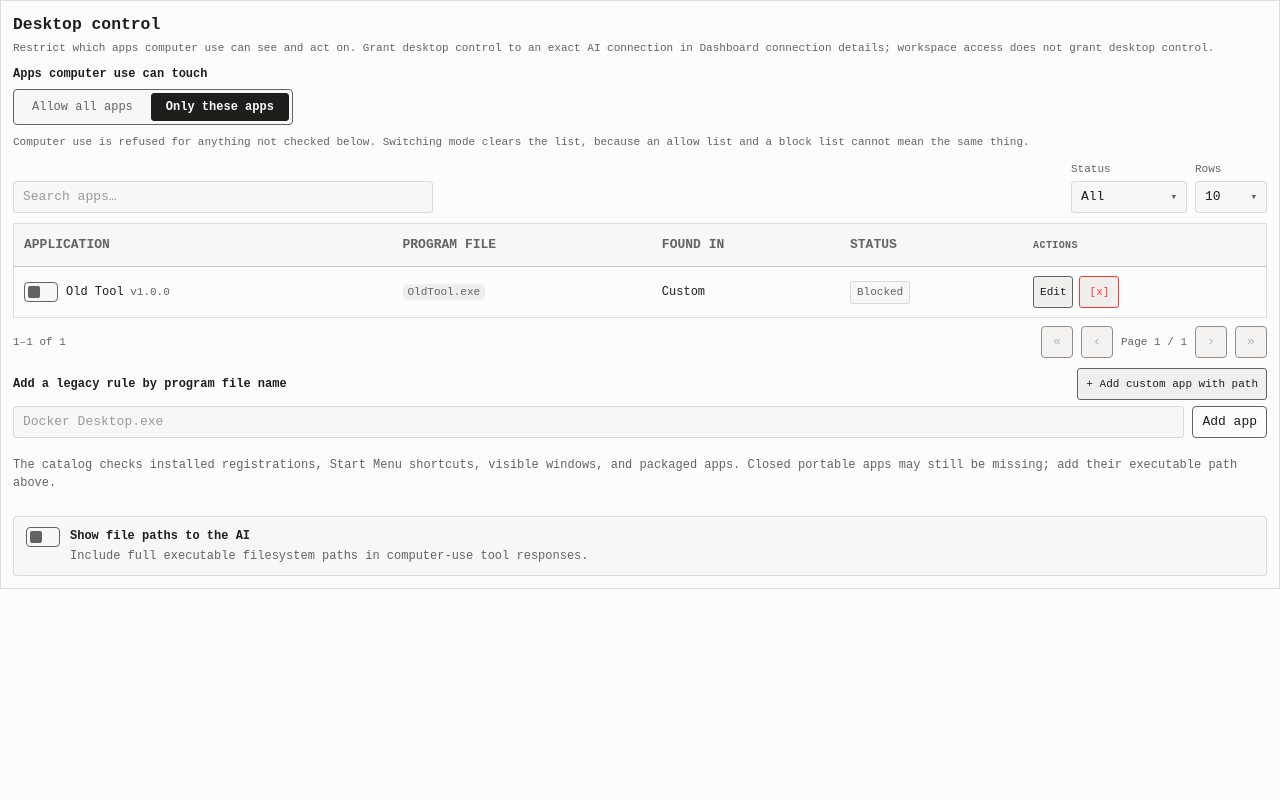
Test case: DesktopControlSettings › allows editing a custom application using the modal
expect the column heading "Actions" is shown: met, box [1023,224,1266,267]
Click the button with aria-label "edit old tool" at (1053, 292), box [1033,276,1074,308]
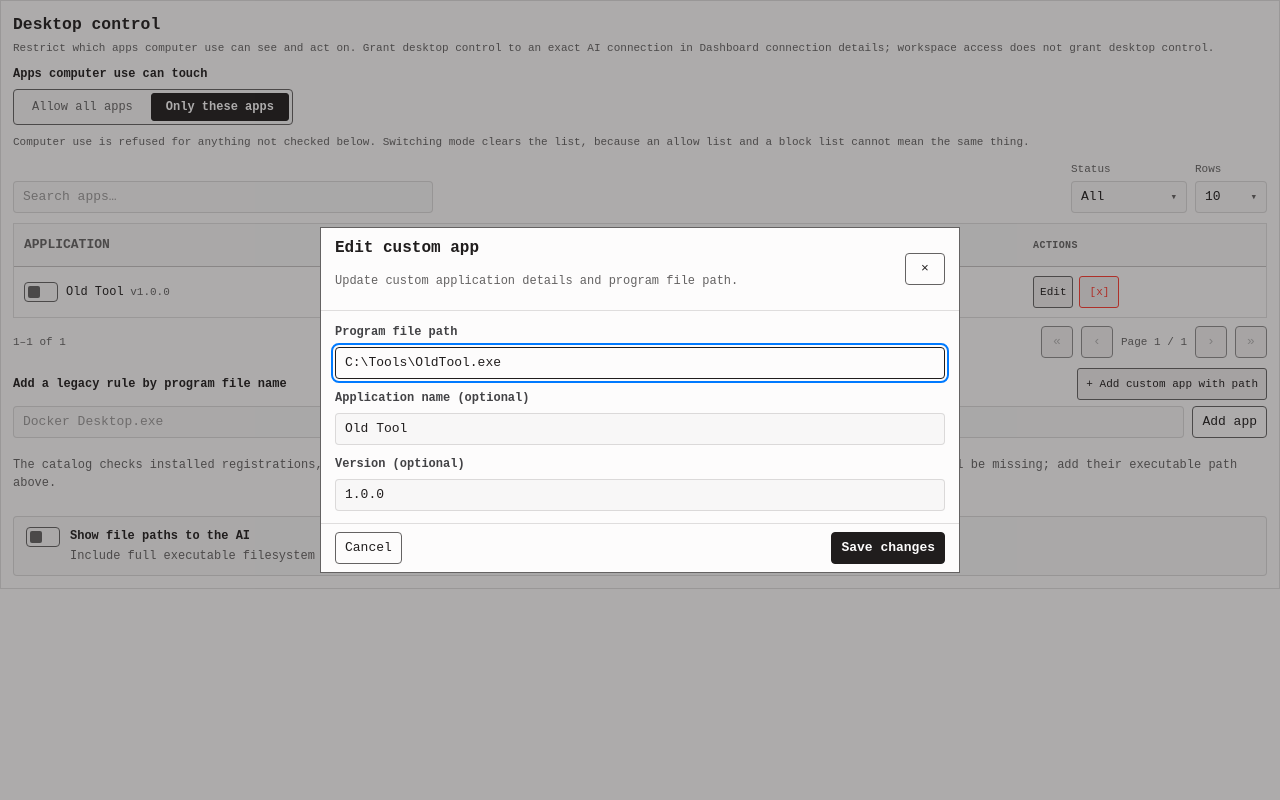
expect the heading "Edit custom app" is shown: met, box [335,239,479,257]
expect the field labelled "Program file path" holds "C:\\Tools\\OldTool.exe": met
expect the field labelled "Application name (optional)" holds "Old Tool": met, box [335,413,945,445]
Replace the text in the field labelled "Program file path" with "C:\\Tools\\NewTool.exe" at (640, 363), box [335,347,945,379]
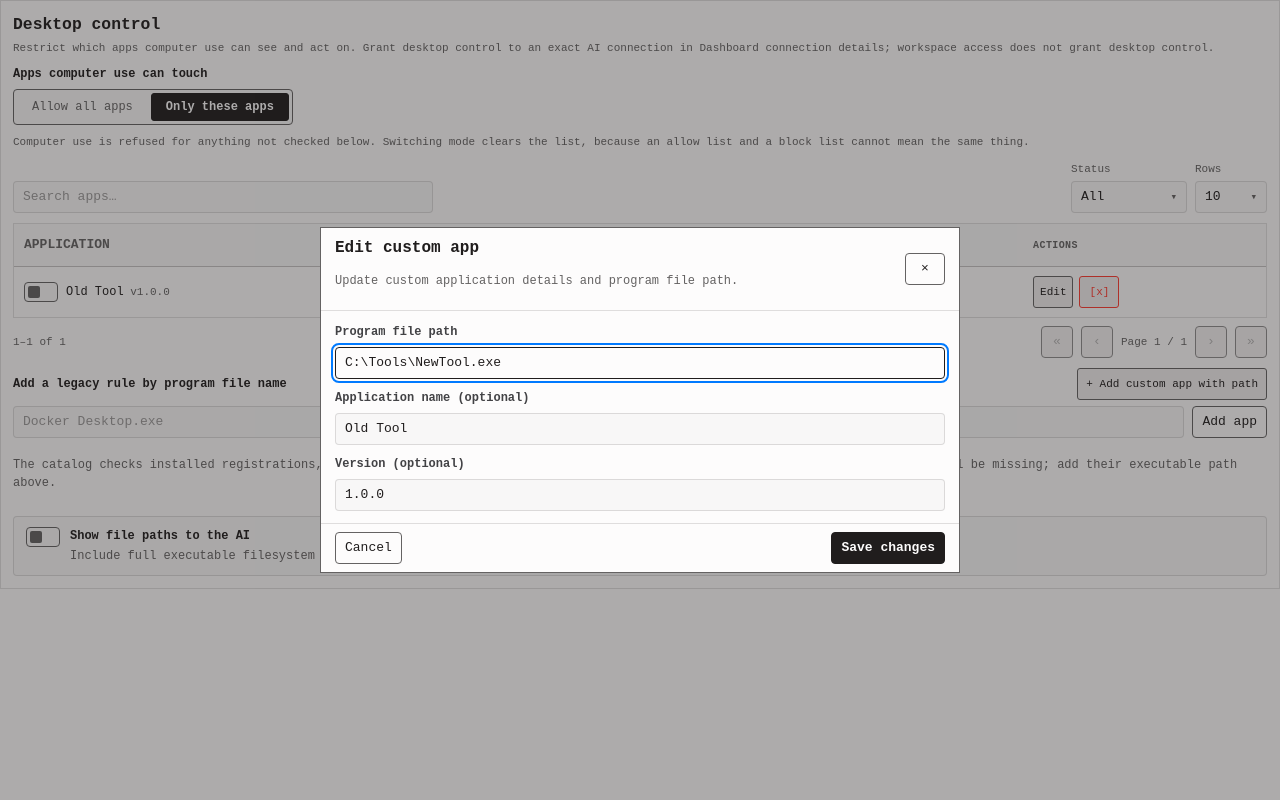
Replace the text in the field labelled "Application name (optional)" with "New Tool" at (640, 429), box [335,413,945,445]
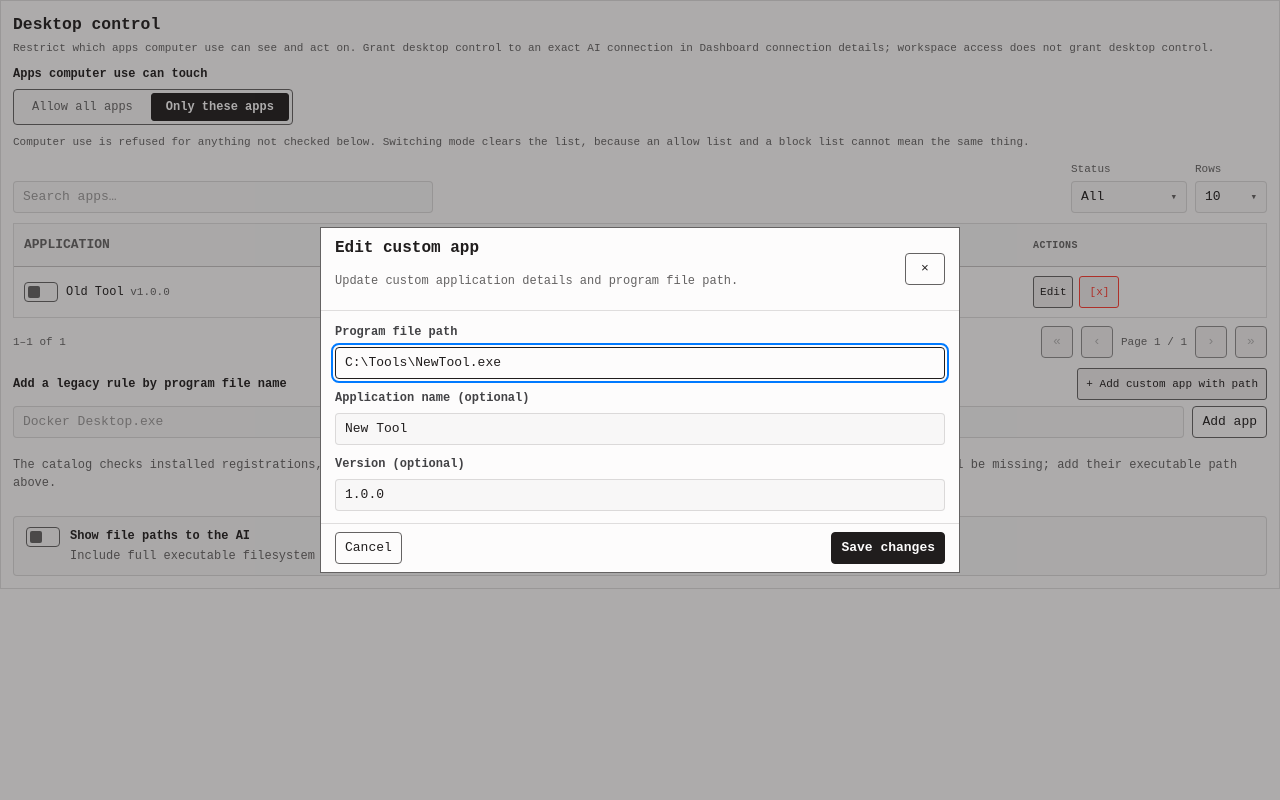
Replace the text in the field labelled "Version (optional)" with "2.0.0" at (640, 495), box [335,479,945,511]
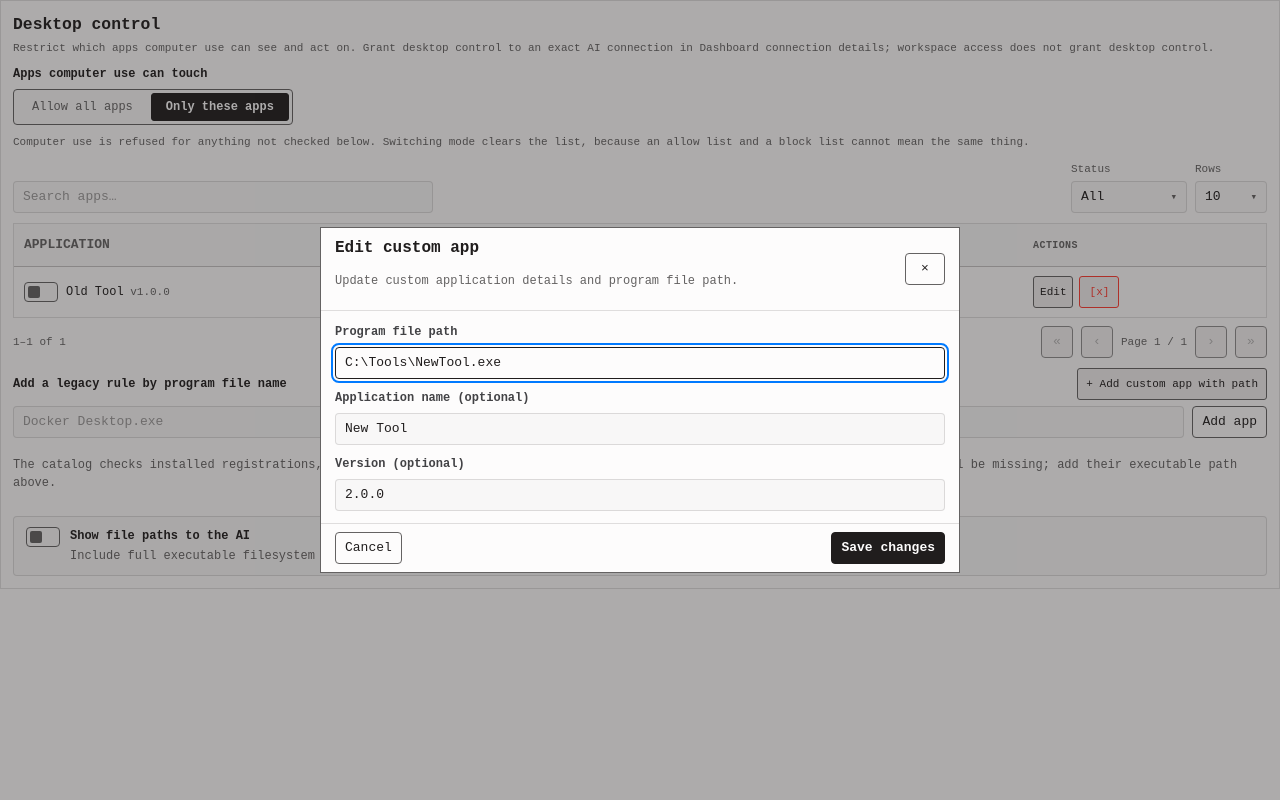
Click the button "Save changes" at (888, 548), box [831,532,945,564]
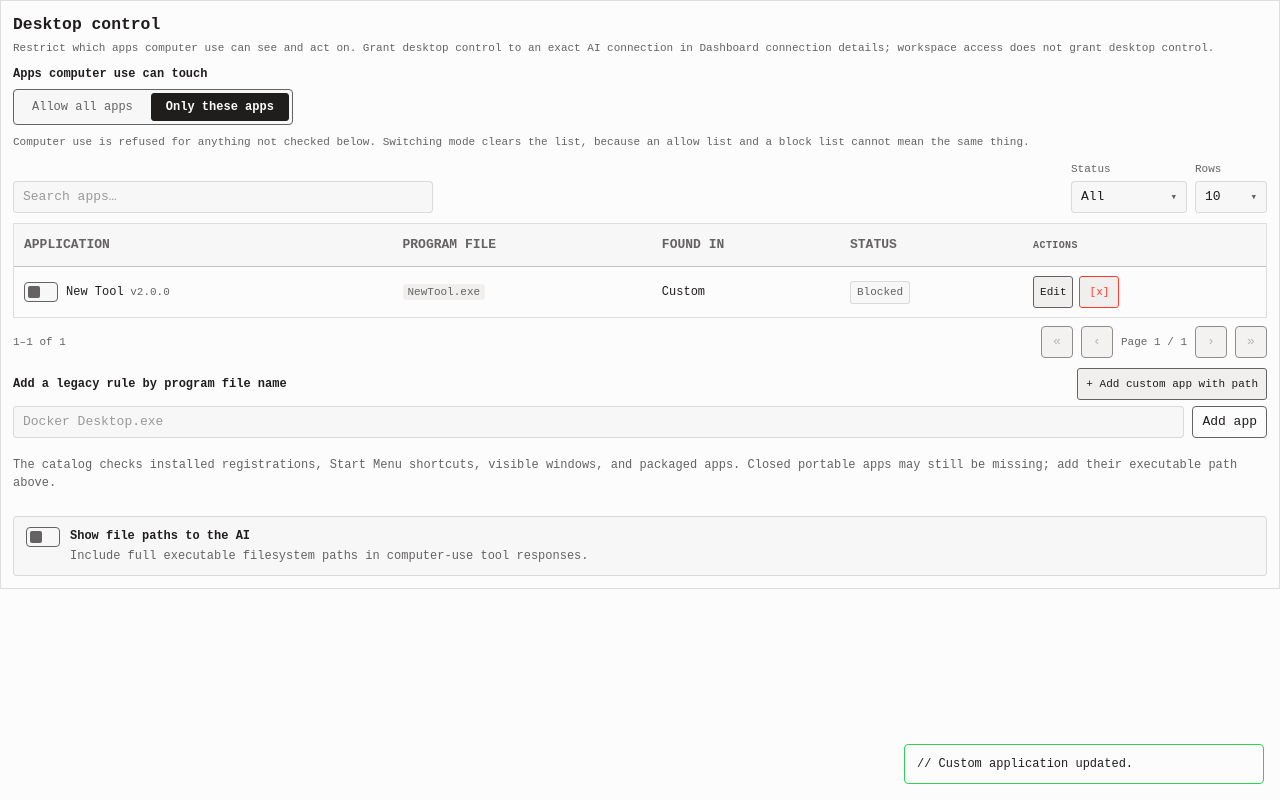
expect the text "New Tool" is shown: met, box [66,285,124,299]
